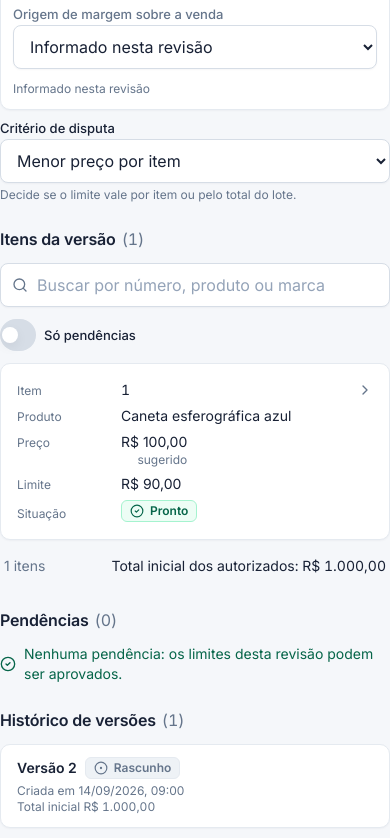
Test case: AprovacaoDePrecificacao › a memória de cálculo do item nomeia a margem como sobre a venda
The image size is (390, 838).
(page scrolled)
Click the text "Caneta esferográfica azul" at (206, 416), box [121,407,291,424]
(page scrolled)
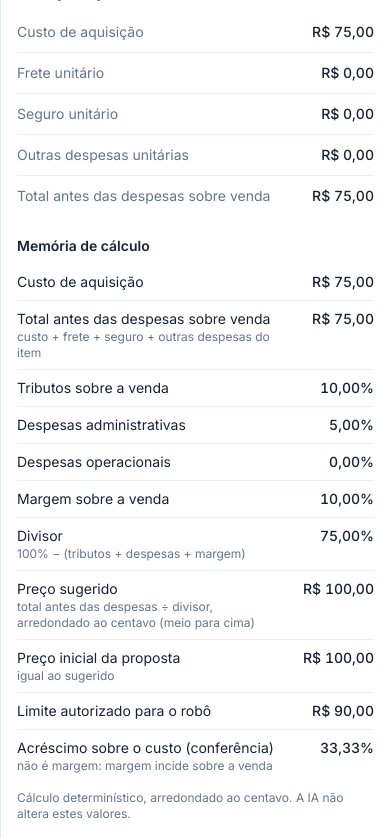
Expected: the text "Margem sobre a venda" is shown, [17,489,169,509]
Expected: the text "Acréscimo sobre o custo (conferência)" is shown, [17,738,274,758]
Expected: the text "R$ 100,00" in the row of "Preço sugerido" is shown, [303,580,374,597]
